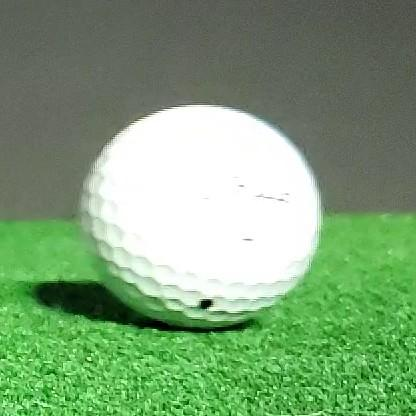golfball: (81, 104, 321, 328)
